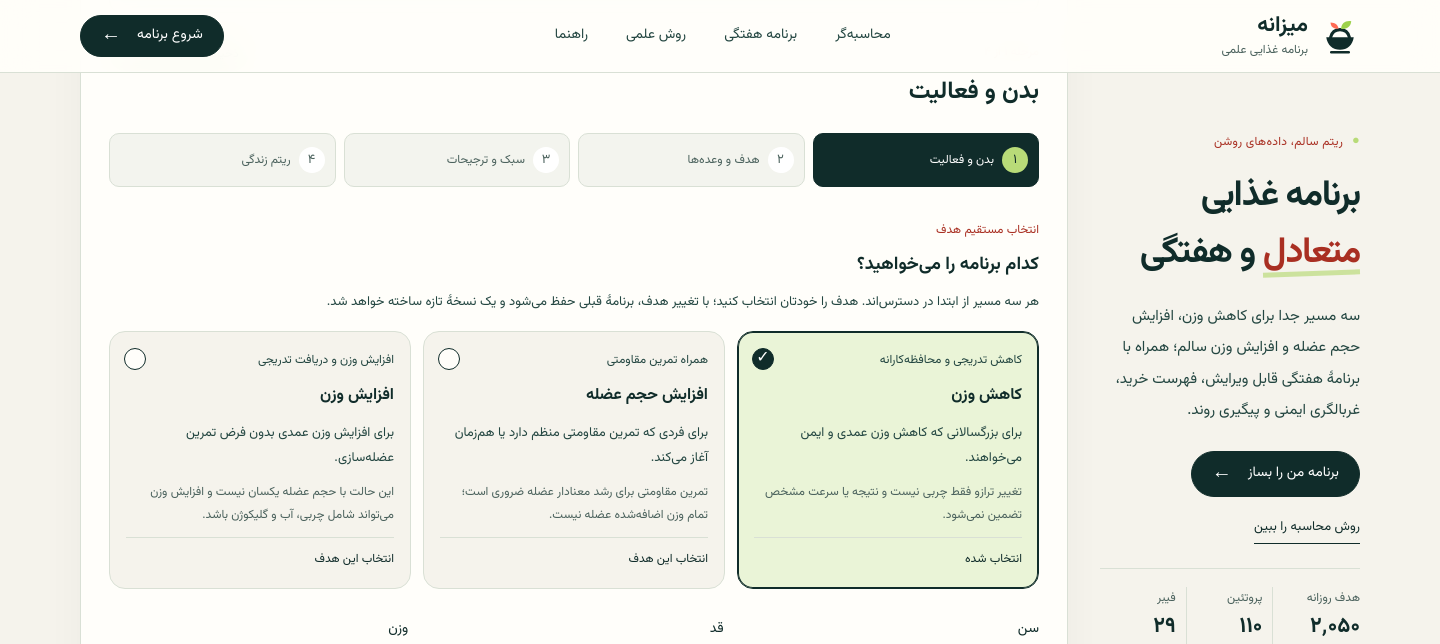
three-goal onboarding and safety › shows appetite and digestive-tolerance fields for healthy weight gain
(page scrolled)
What coordinates should you click on to do the following:
click the radio button labelled "افزایش وزن"
I would click on:
 (326, 360)
Its box is [109,331,411,589].
(page scrolled)
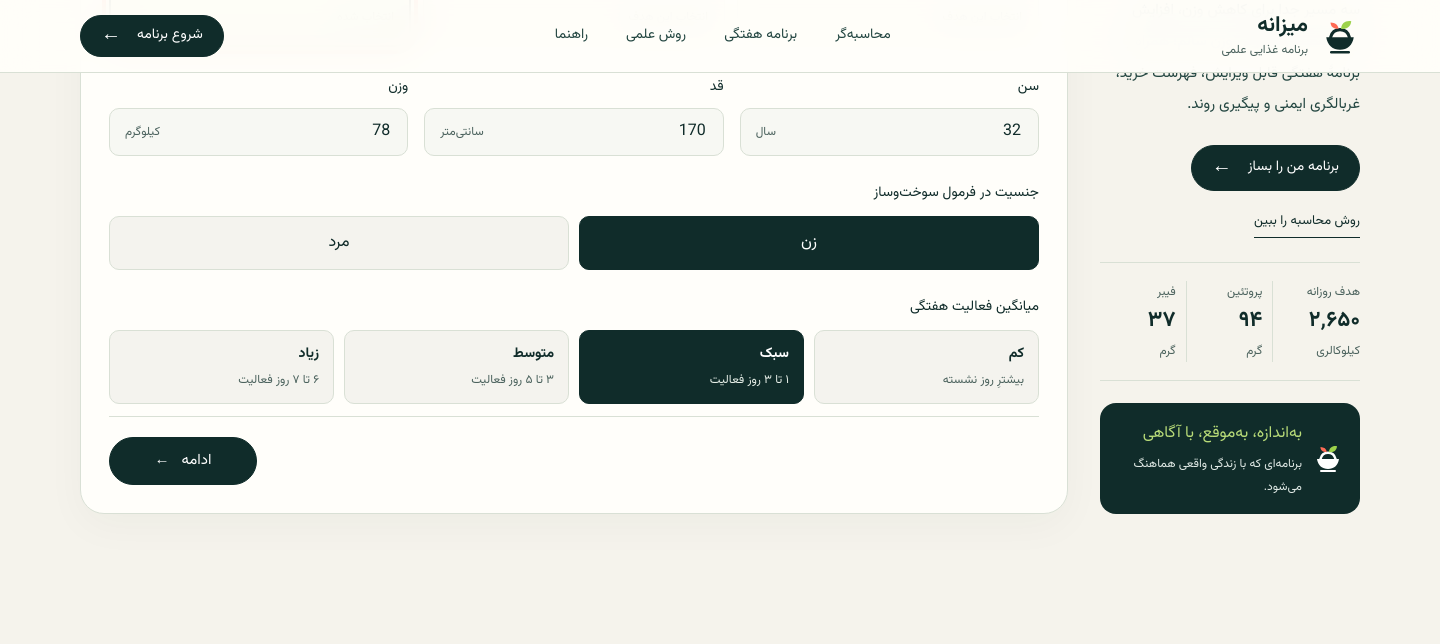
What coordinates should you click on to do the following:
click the button "ادامه ←"
I would click on:
 (183, 461)
Its box is [109,437,257,485].
(page scrolled)
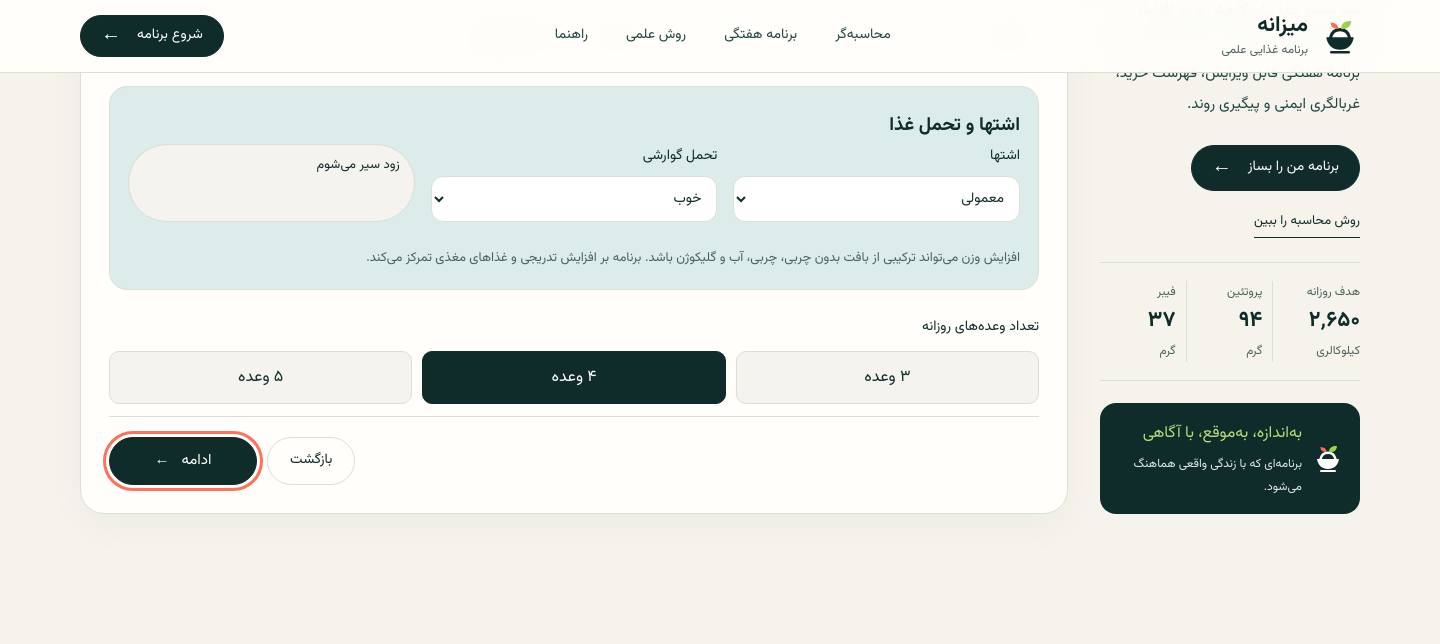
Check: the heading "اشتها و تحمل غذا" is shown, box [889,111,1020,140]
